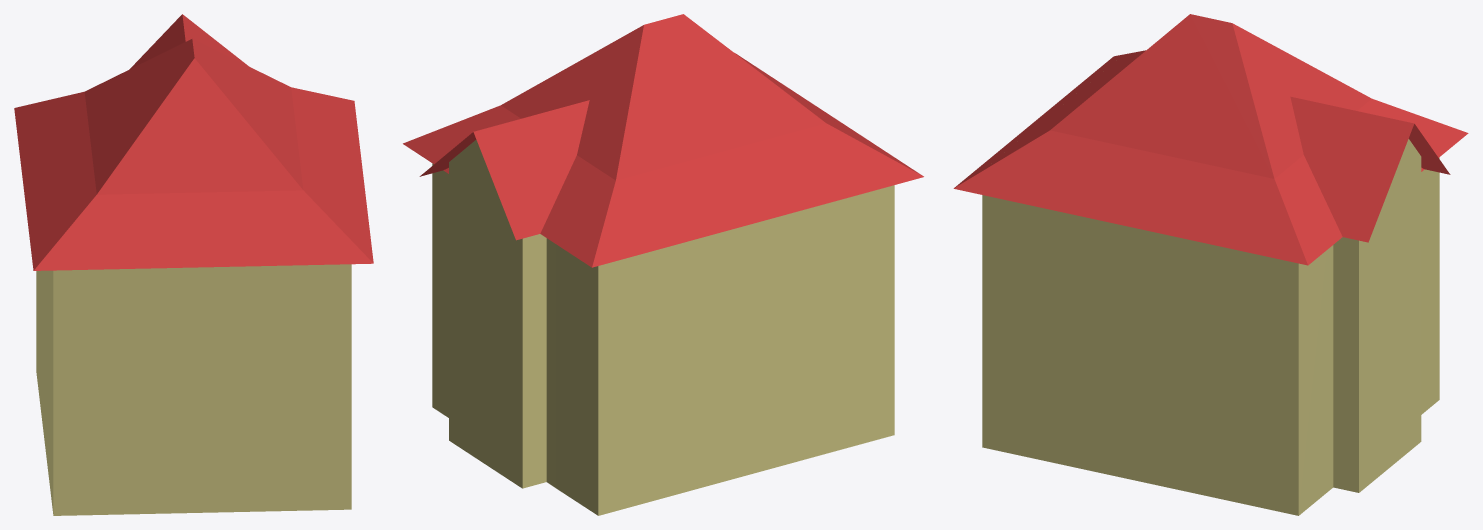
3 renders of one model, left to right at view 1: azimuth 30°, elevation 25°; view 2: azimuth 150°, elevation 25°; view 3: azimuth 270°, elevation 25°, orthographic. The views are drawn at different scales.
Bounding box in the file's own units: 17.11 × 17.81 × 15.44.
